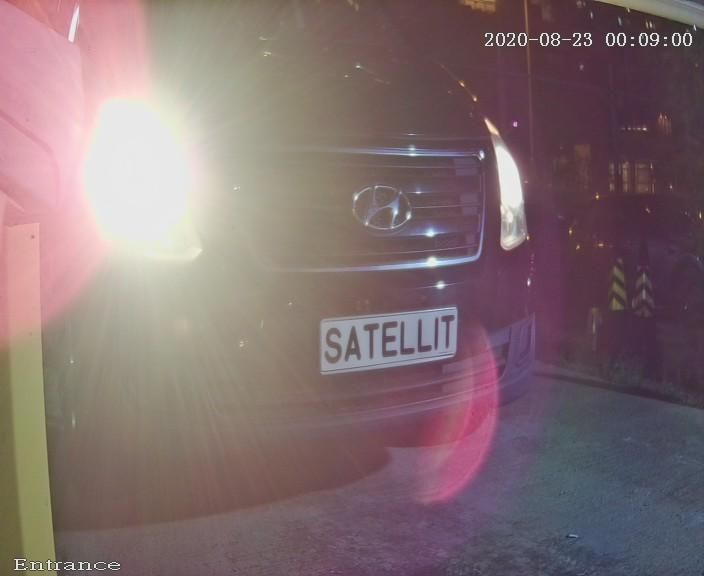Car: (16, 11, 607, 525)
License Plate: (273, 277, 482, 405)
